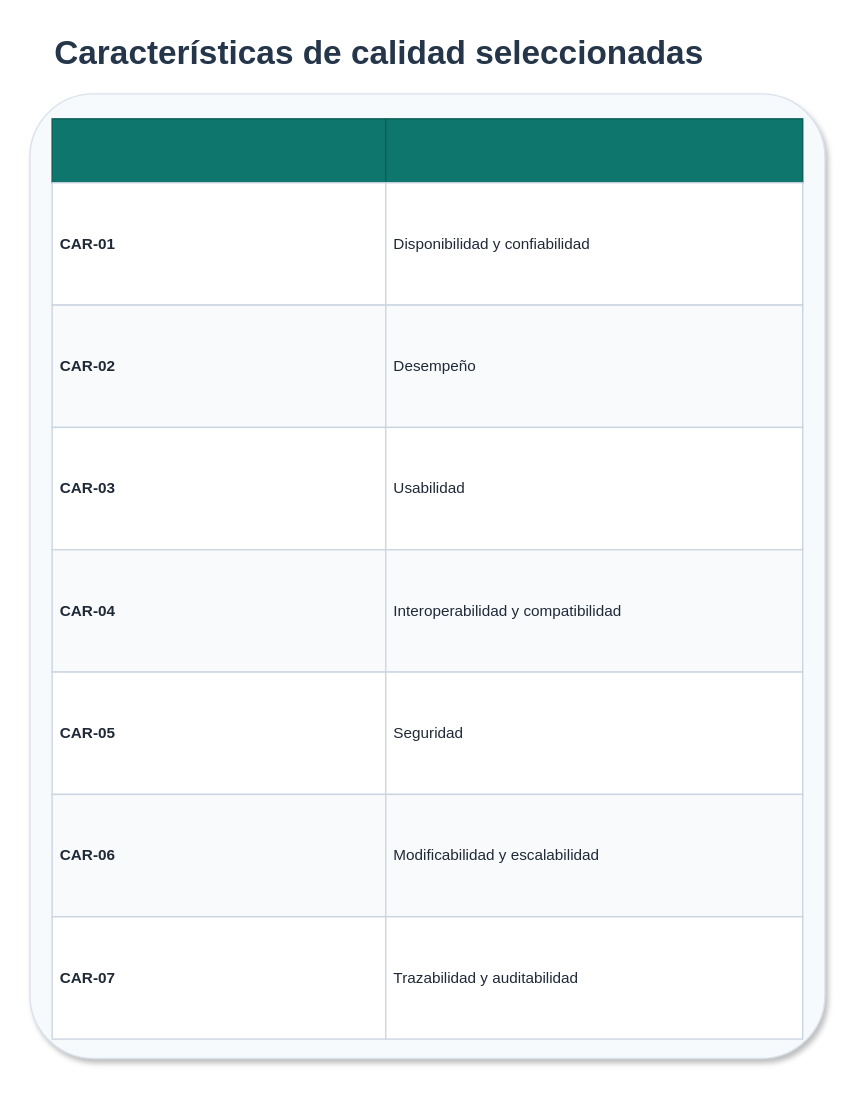
The diagram is 858 pixels wide and 1093 high, and some of its shapes have lost their labels. The centre of each missing label's shape, as x and y in pixels:
Característica: the point at 593,150
ID: the point at 218,150
